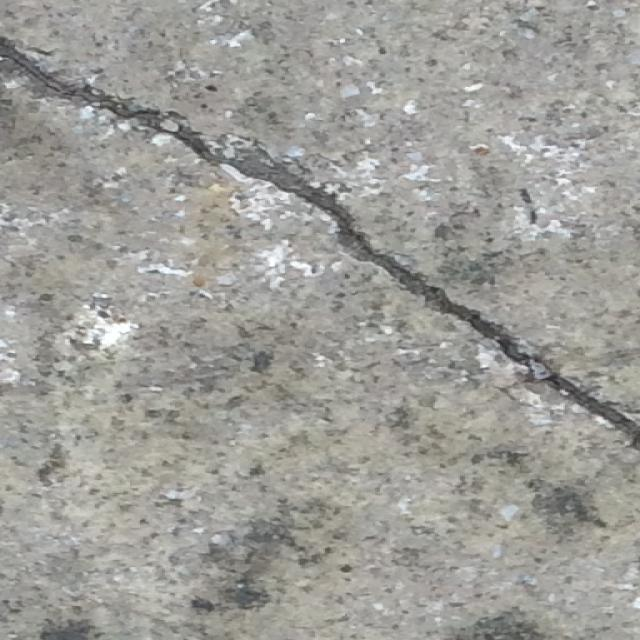crack: (3, 32, 638, 452)
